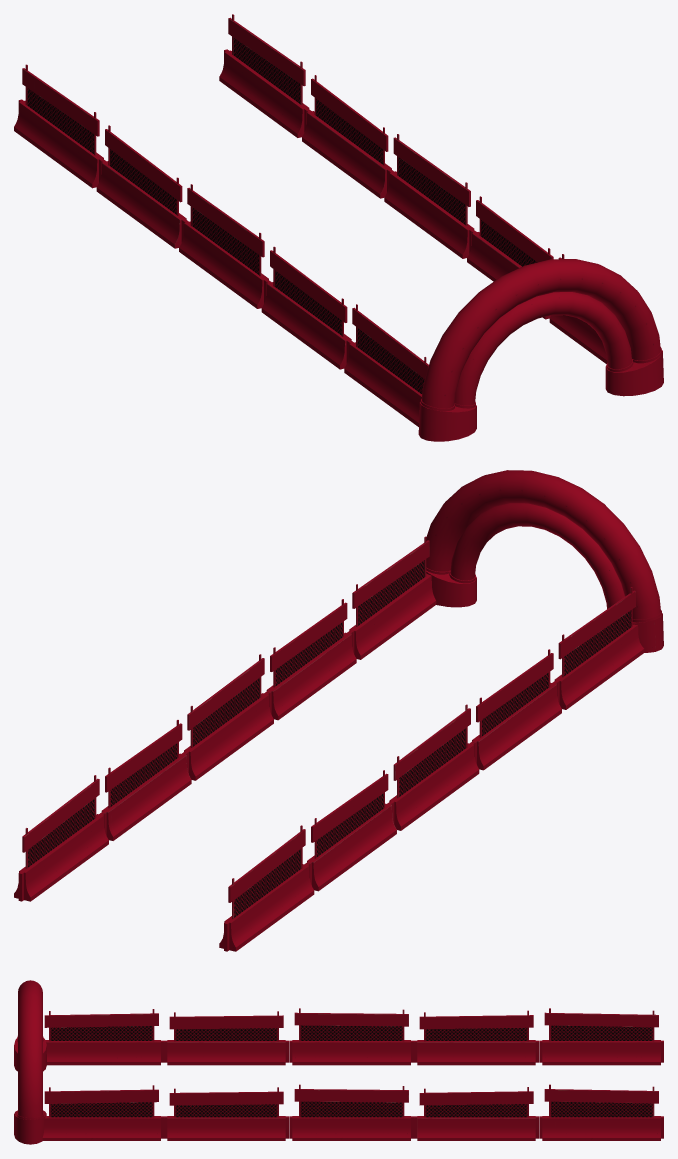
File: タイトルなし.fbx
The picture shows the model from 3 angles, top to bottom: view 1: azimuth 30°, elevation 25°; view 2: azimuth 150°, elevation 25°; view 3: azimuth 270°, elevation 25°; orthographic projection. The views are drawn at different scales.
Parts seen in each view (by area): view 1: node_id38, node_id42, node_id46, node_id44; view 2: node_id38, node_id46, node_id42, node_id44; view 3: node_id38, node_id46, node_id42.
Part boxes in pixels (x1,y1,x2,y2): node_id38: (14,14,663,441); node_id42: (421,259,660,408); node_id46: (27,37,537,394); node_id44: (454,292,632,405); node_id38: (14,536,663,951); node_id46: (28,560,631,917); node_id42: (426,470,660,619); node_id44: (450,503,624,608); node_id38: (14,1008,663,1144); node_id46: (50,1025,652,1117); node_id42: (18,980,42,1117).
Size of the model in its own units: 0.512 by 0.2945 by 1.58.
5 materials, 5 textured.
